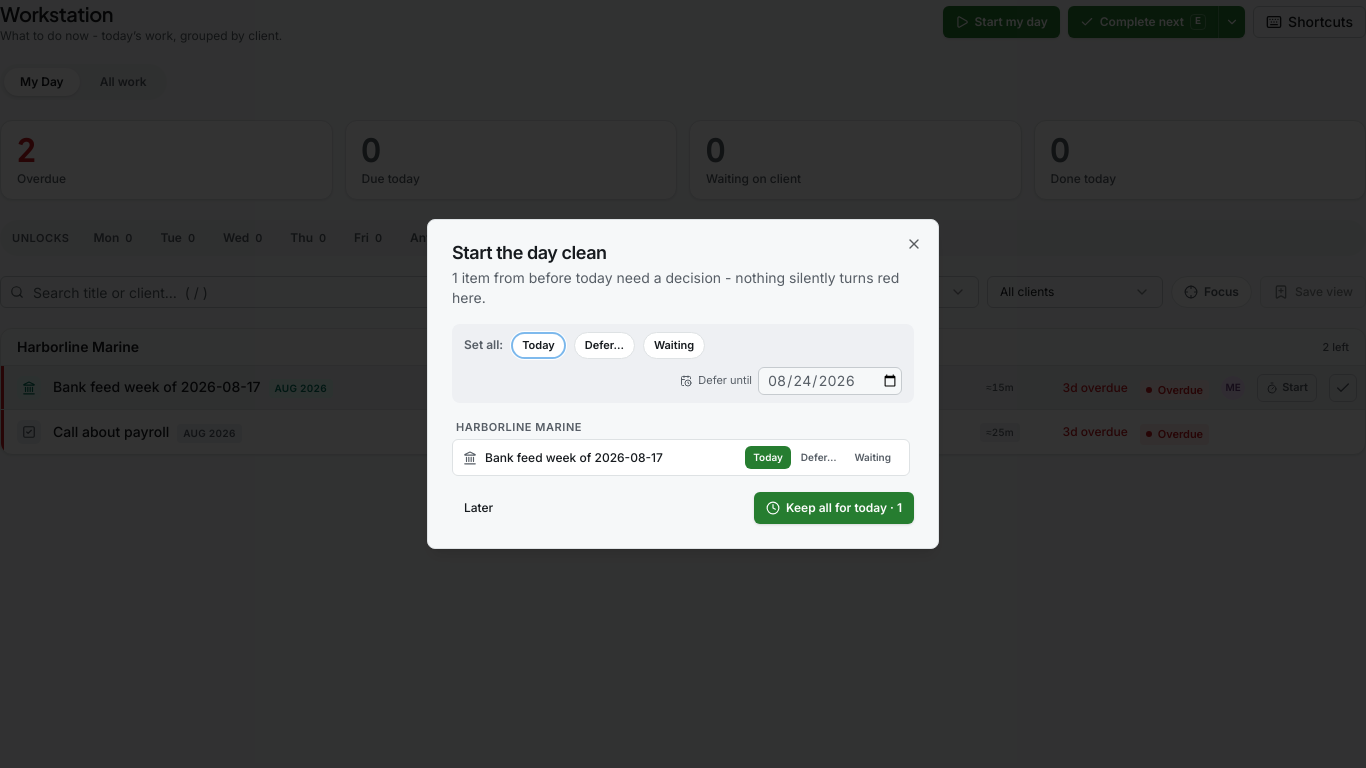
Guided rollover (D3) › opens on the first visit of the day for assigned-to-me overdue items
Expected: the dialog with test id "rollover-dialog" shows "Bank feed week of 2026-08-17", [485, 450, 663, 464]
Expected: the dialog with test id "rollover-dialog" shows "1 item from before today", [427, 219, 939, 549]
# The fast path: one tap keeps everything for today.
Click the button with test id "rollover-apply" at (834, 508), box [754, 492, 914, 524]
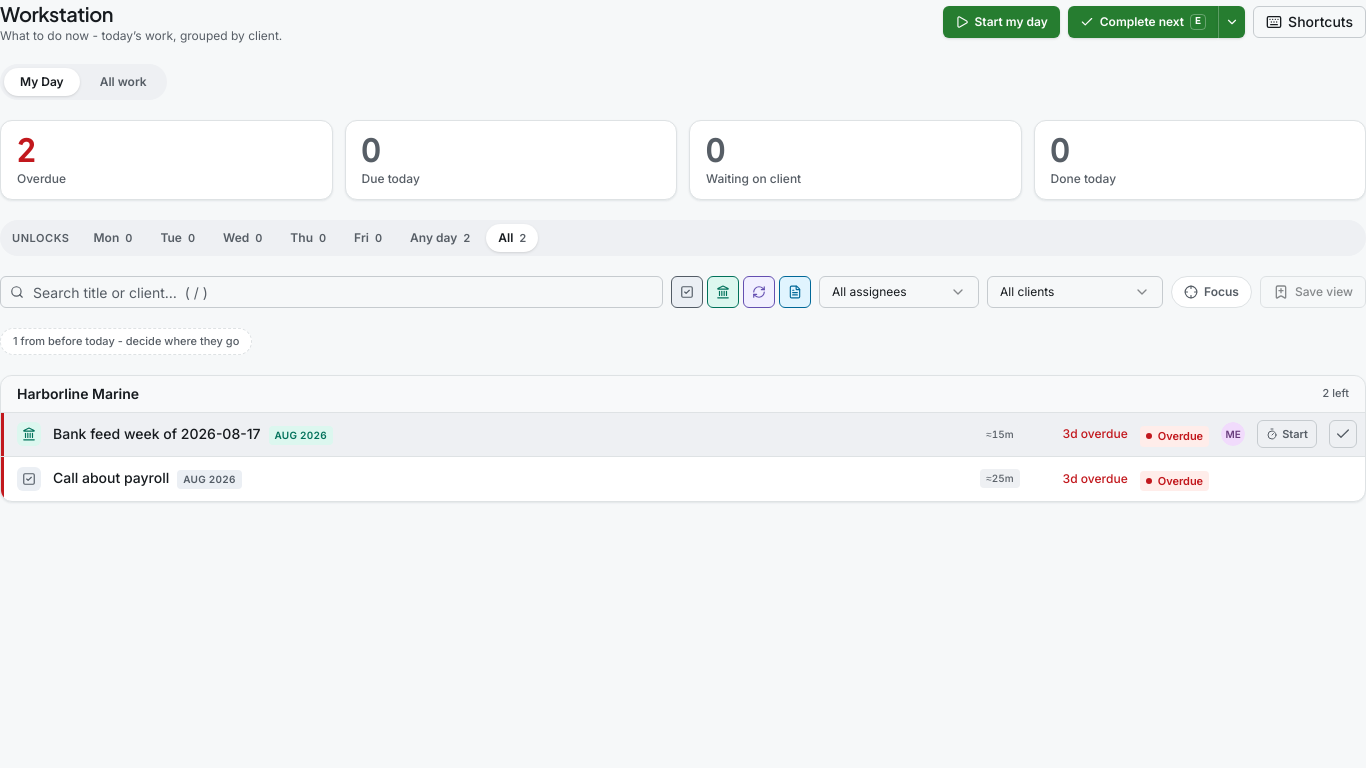
Now the dialog with test id "rollover-dialog" is gone
